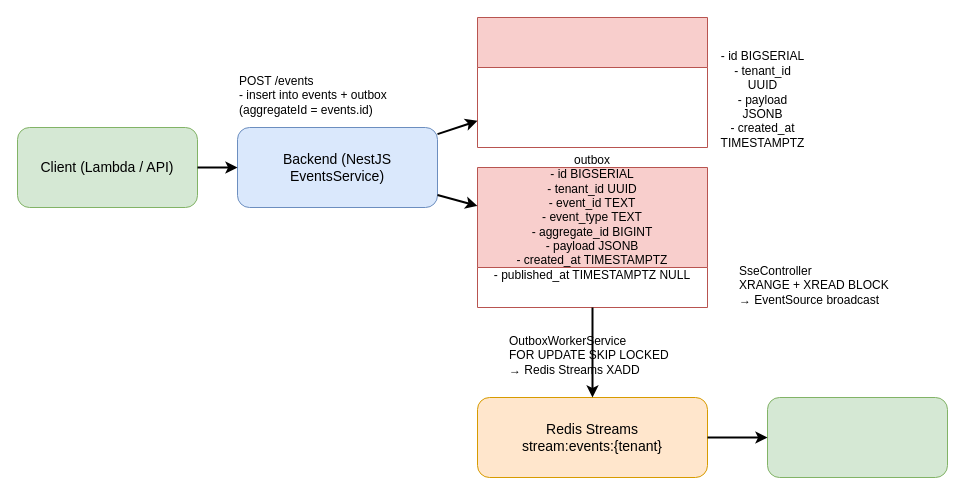
Image size: 965x495. Some labels were removed from this diagram. Each missing label, with the centre of its shape:
"events" belongs at (x=592, y=82).
"SSE Clients (EventSource)" belongs at (x=857, y=437).
